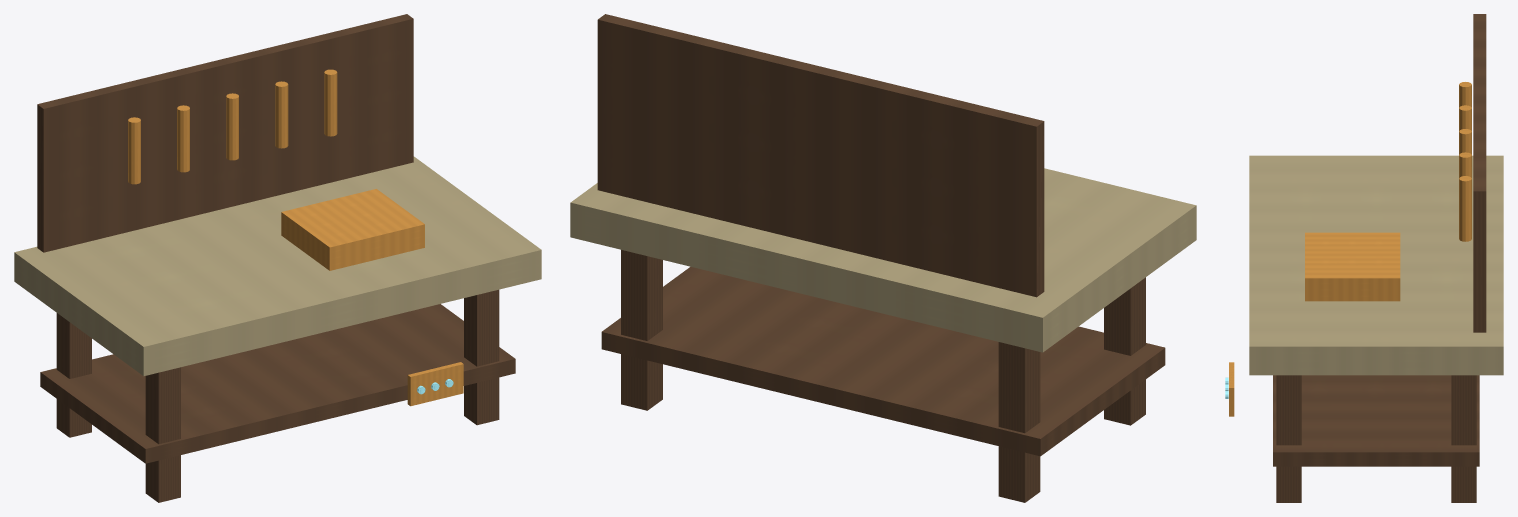
The model's file is atlas100-s020-a06.glb.
The picture shows the model from 3 angles, left to right: view 1: azimuth 30°, elevation 25°; view 2: azimuth 150°, elevation 25°; view 3: azimuth 270°, elevation 25°; orthographic projection. The views are drawn at different scales.
Parts seen in each view (by area): view 1: atlas100-s020-a06:part-004, atlas100-s020-a06:part-006, atlas100-s020-a06:part-005, atlas100-s020-a06:part-012, atlas100-s020-a06:part-003, atlas100-s020-a06:part-001, atlas100-s020-a06:part-000, atlas100-s020-a06:part-013, atlas100-s020-a06:part-010, atlas100-s020-a06:part-011, atlas100-s020-a06:part-009, atlas100-s020-a06:part-007 (+1 smaller); view 2: atlas100-s020-a06:part-006, atlas100-s020-a06:part-005, atlas100-s020-a06:part-004, atlas100-s020-a06:part-000, atlas100-s020-a06:part-002, atlas100-s020-a06:part-001; view 3: atlas100-s020-a06:part-004, atlas100-s020-a06:part-005, atlas100-s020-a06:part-012, atlas100-s020-a06:part-006, atlas100-s020-a06:part-002, atlas100-s020-a06:part-003, atlas100-s020-a06:part-011, atlas100-s020-a06:part-013.
Part boxes in pixels (box(x1,y1,x2,y2)): atlas100-s020-a06:part-004: box(14, 156, 541, 376); atlas100-s020-a06:part-006: box(37, 14, 413, 252); atlas100-s020-a06:part-005: box(40, 304, 515, 463); atlas100-s020-a06:part-012: box(281, 189, 424, 270); atlas100-s020-a06:part-003: box(464, 289, 499, 425); atlas100-s020-a06:part-001: box(145, 367, 180, 502); atlas100-s020-a06:part-000: box(56, 313, 91, 437); atlas100-s020-a06:part-013: box(407, 362, 463, 406); atlas100-s020-a06:part-010: box(275, 81, 288, 148); atlas100-s020-a06:part-011: box(324, 69, 337, 136); atlas100-s020-a06:part-009: box(226, 93, 238, 160); atlas100-s020-a06:part-007: box(128, 117, 140, 184); atlas100-s020-a06:part-006: box(597, 14, 1044, 297); atlas100-s020-a06:part-005: box(601, 266, 1165, 456); atlas100-s020-a06:part-004: box(570, 168, 1196, 352); atlas100-s020-a06:part-000: box(998, 342, 1040, 502); atlas100-s020-a06:part-002: box(621, 250, 662, 410); atlas100-s020-a06:part-001: box(1104, 277, 1145, 425); atlas100-s020-a06:part-004: box(1249, 155, 1503, 375); atlas100-s020-a06:part-005: box(1273, 375, 1479, 466); atlas100-s020-a06:part-012: box(1305, 232, 1400, 301); atlas100-s020-a06:part-006: box(1473, 14, 1486, 332); atlas100-s020-a06:part-002: box(1451, 375, 1476, 502); atlas100-s020-a06:part-003: box(1276, 375, 1301, 502); atlas100-s020-a06:part-011: box(1459, 176, 1471, 241); atlas100-s020-a06:part-013: box(1229, 362, 1234, 416).
Bounding box in the file's own units: 2.84 × 2.21 × 1.75.
4 materials, 4 textured.
